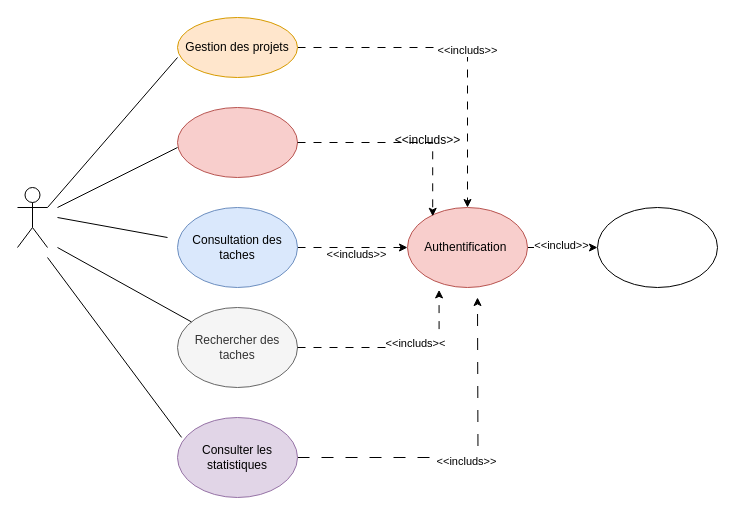
Image size: 735x515. Some labels were removed from this diagram. The box of each missing label's shape, as (x1, y1, x2, y2) in pixels:
Gestion des taches: (176, 106, 298, 178)
Inscription: (596, 206, 718, 288)
User: (16, 186, 48, 248)
